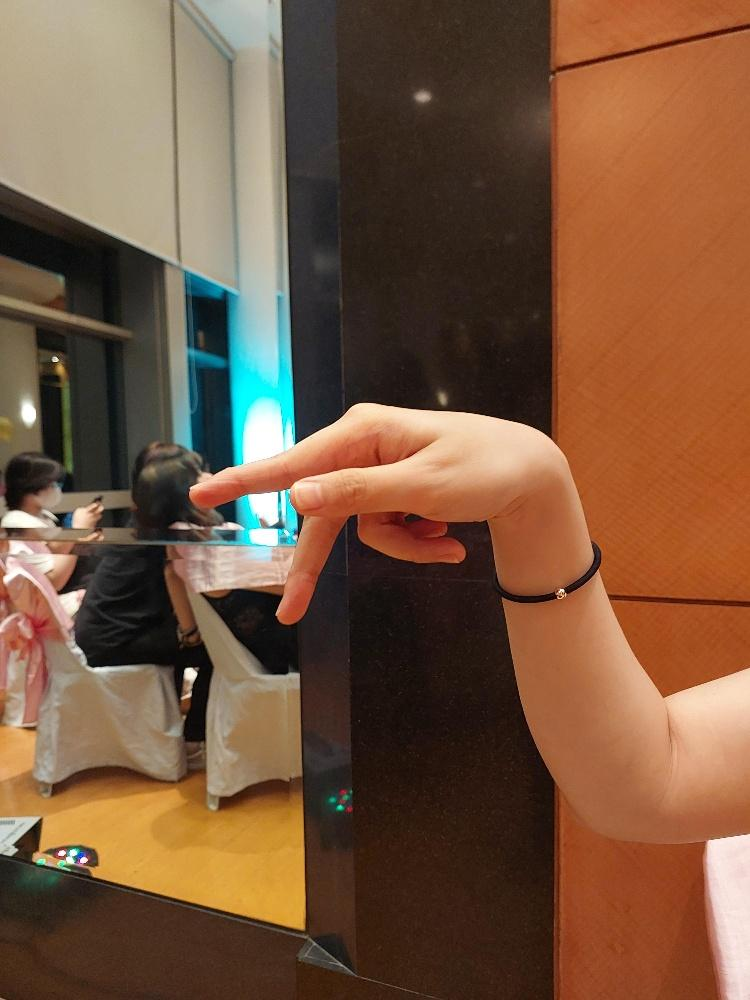p: (184, 396, 528, 628)
